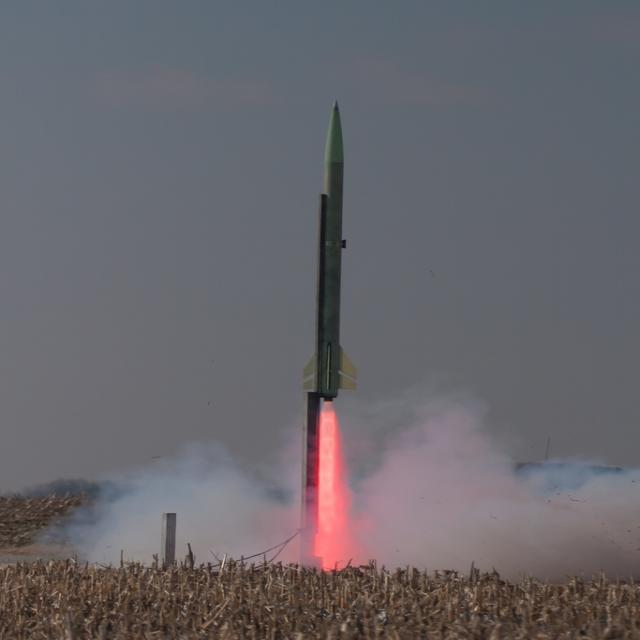missile: (294, 99, 372, 417)
